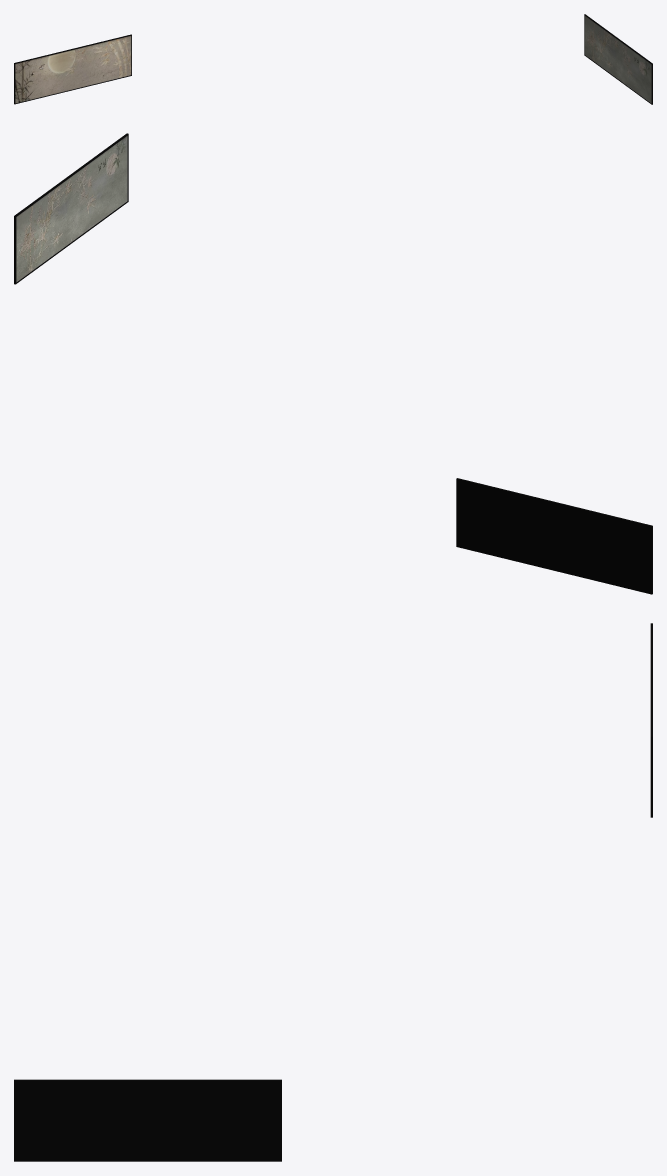
File: Pictures3.obj
The picture shows the model from 3 angles, top to bottom: view 1: azimuth 30°, elevation 25°; view 2: azimuth 150°, elevation 25°; view 3: azimuth 270°, elevation 25°; orthographic projection. The views are drawn at different scales.
Parts seen in each view (by area): view 1: Painting2, Painting1; view 2: Painting2, Painting1; view 3: Painting1.
Part boxes in pixels (left/top/right/bottom): Painting2: left=14, top=34, right=131, bottom=104; Painting1: left=584, top=14, right=652, bottom=104; Painting2: left=456, top=478, right=652, bottom=594; Painting1: left=14, top=133, right=128, bottom=284; Painting1: left=14, top=1079, right=281, bottom=1161.
Bounding box in the file's own units: 4.54 × 0.3849 × 2.67.
